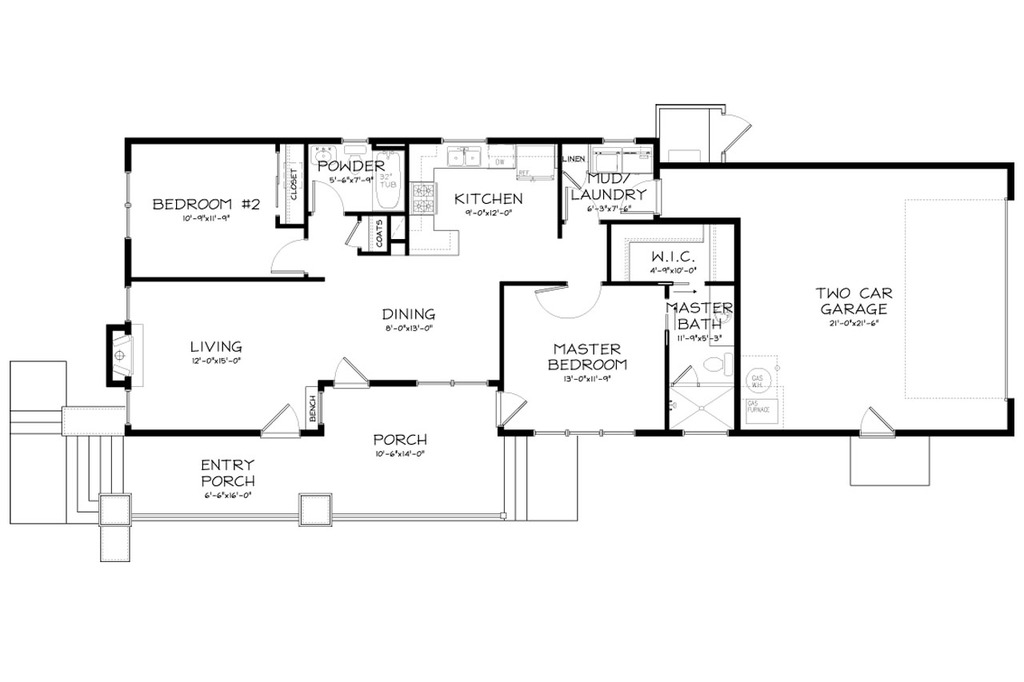door: (240, 393, 310, 440), (717, 107, 762, 172), (847, 399, 906, 445), (538, 285, 608, 322), (619, 175, 669, 215), (490, 386, 530, 435), (263, 237, 307, 276), (302, 173, 341, 217), (328, 353, 371, 390), (559, 184, 599, 223), (660, 356, 698, 391), (345, 215, 372, 253), (566, 167, 589, 188)
large_sink: (695, 341, 736, 380), (338, 137, 367, 175)
small_sink: (710, 289, 734, 339), (308, 145, 337, 165)
stairs: (11, 359, 133, 527)
tub: (376, 151, 404, 212)
twin_sink: (439, 140, 486, 172)
window: (121, 171, 145, 246)
